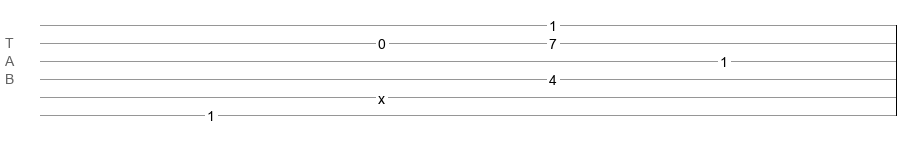0: (378, 36, 386, 46)
1: (207, 108, 215, 118), (549, 18, 557, 28), (720, 54, 728, 64)
4: (549, 72, 557, 82)
7: (549, 36, 557, 46)
x: (378, 91, 385, 99)
